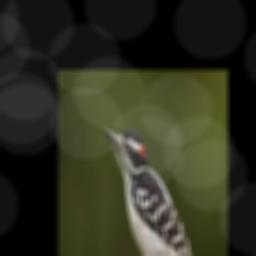Woodpecker: (103, 126, 204, 256)
